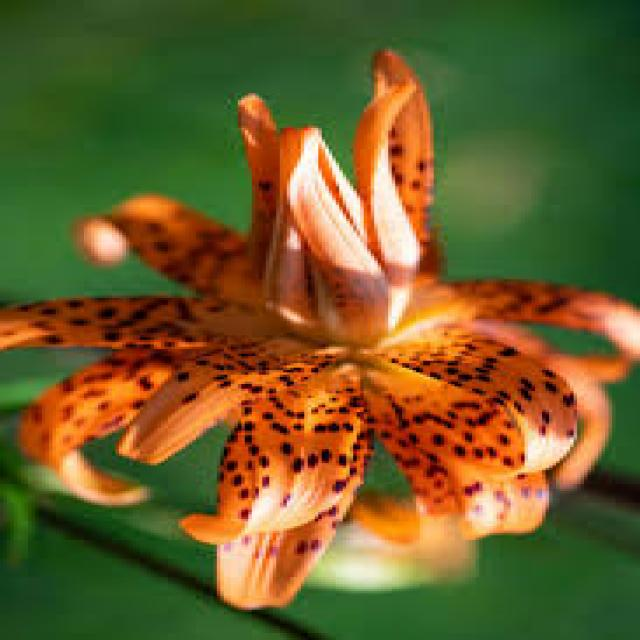lily: (1, 46, 639, 640)
